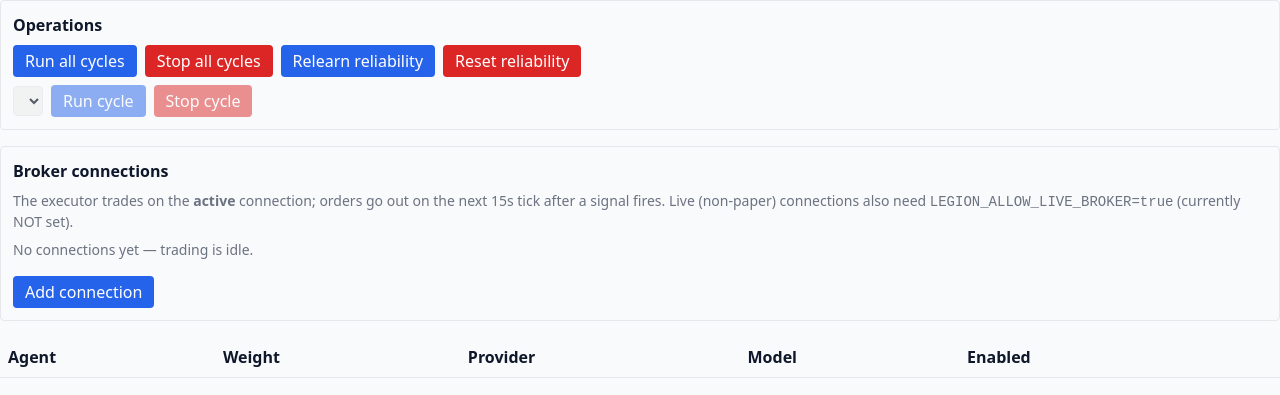
Scenario: AgentConfig › surfaces an Operations failure instead of swallowing it
This screenshot has width=1280, height=395.
Click the button with aria-label "run-all-cycles" at x=75, y=61, box [13, 45, 137, 77]
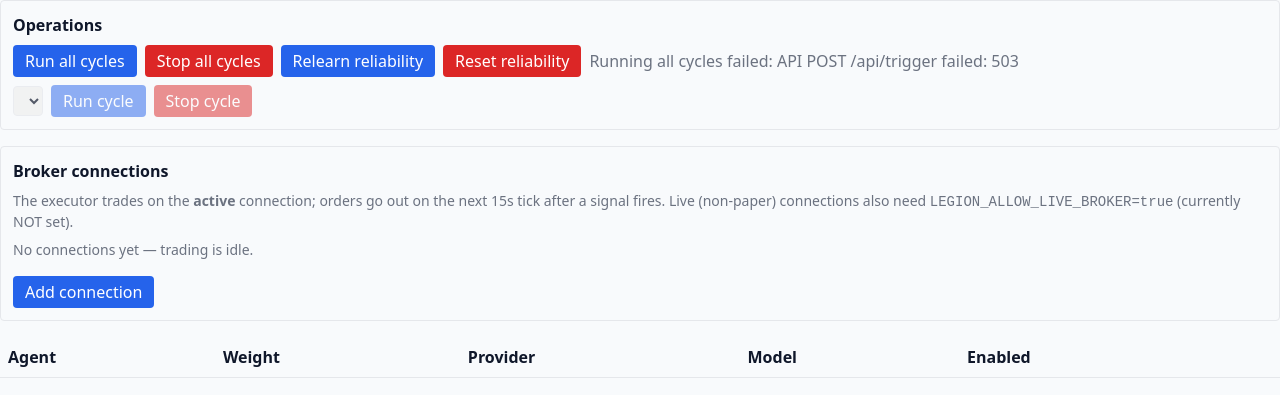
expect the text "Running all cycles failed: API POST /api/trigger failed: 503" is shown: met, box [589, 49, 1019, 73]
